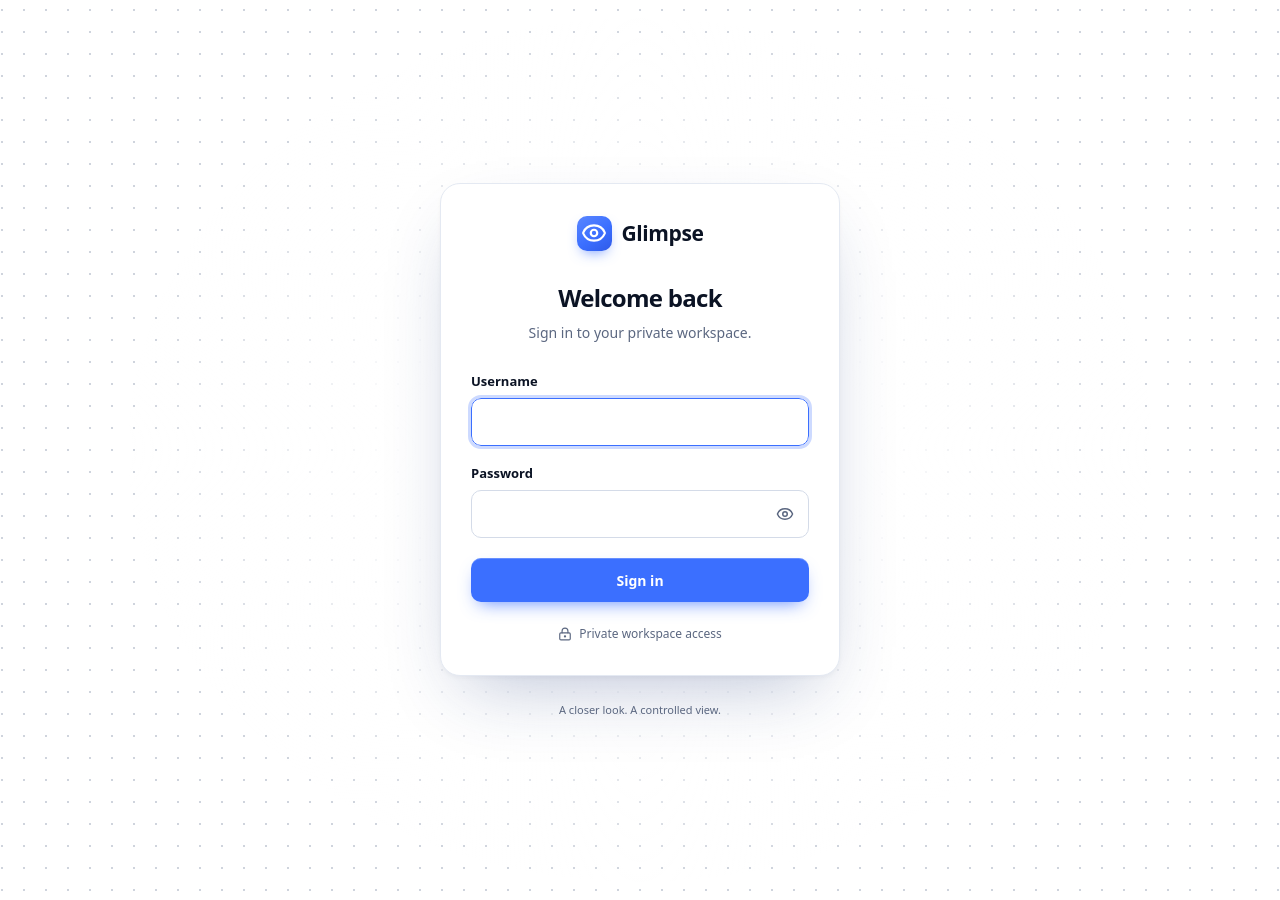
Test: shows server errors and allows another attempt
Type "owner" into the field labelled "Username" at coordinates (640, 422), box [471,398,809,446]
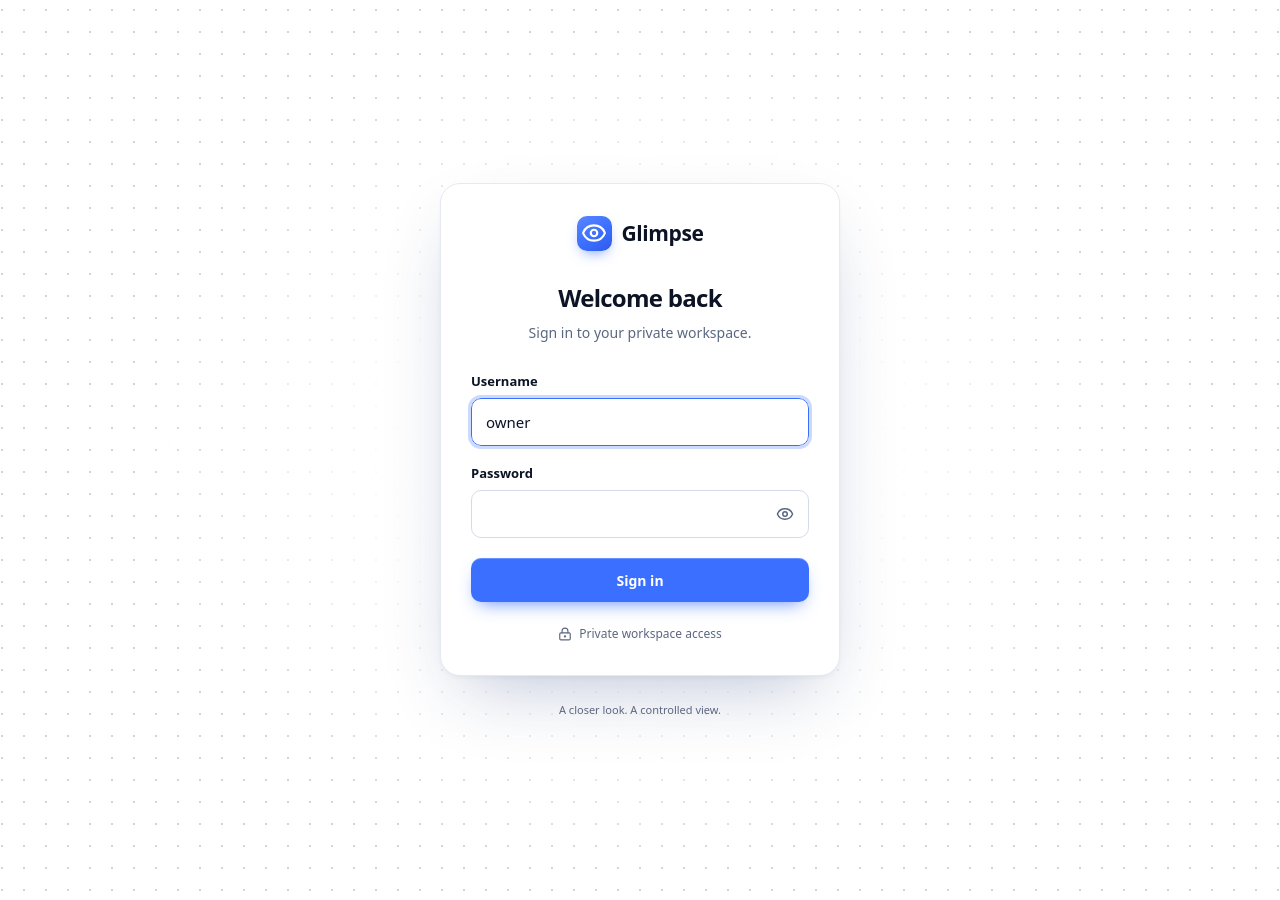
Type "wrong" into the password field labelled "Password" at coordinates (640, 514), box [471,490,809,538]
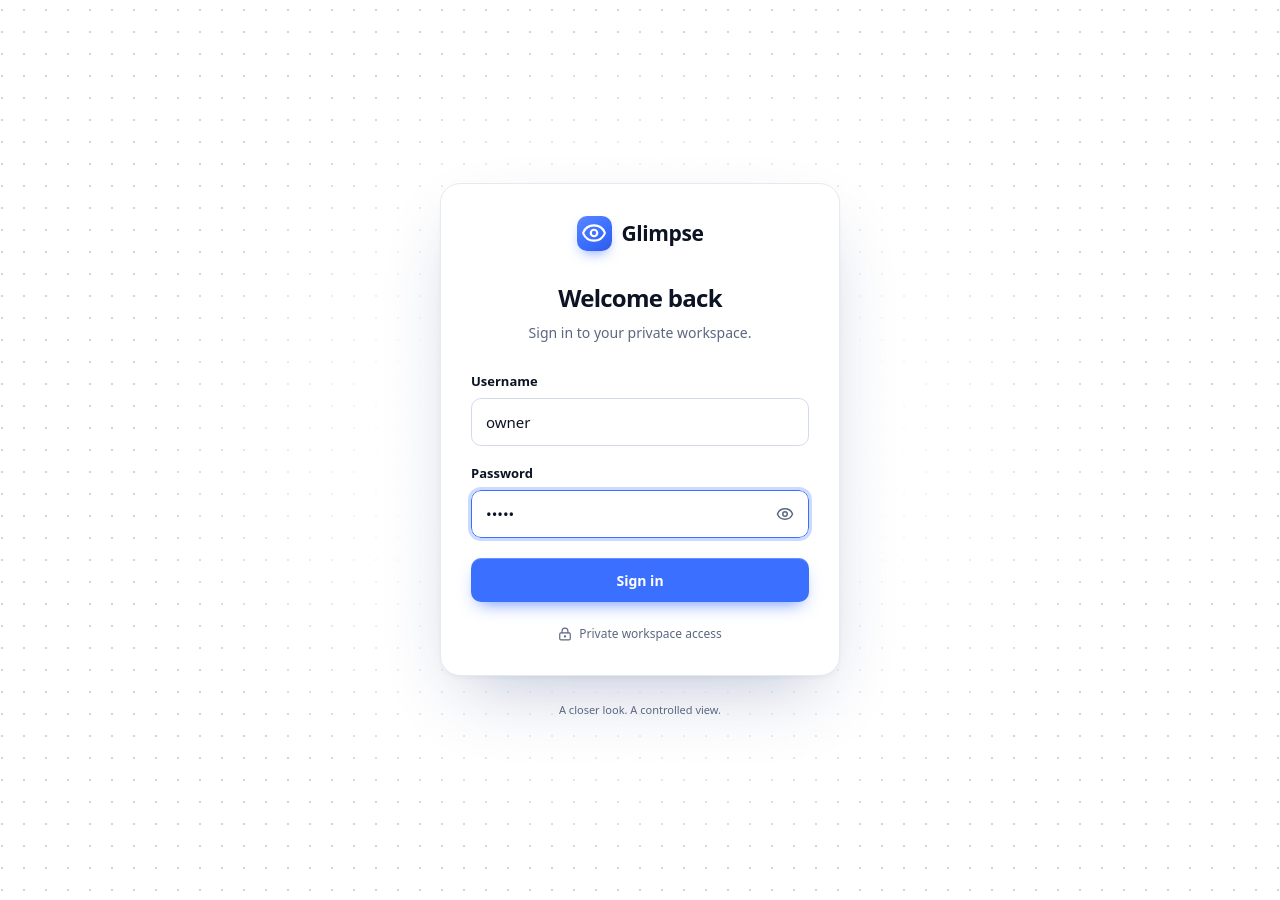
Click the button "Sign in" at coordinates (640, 580), box [471,558,809,602]
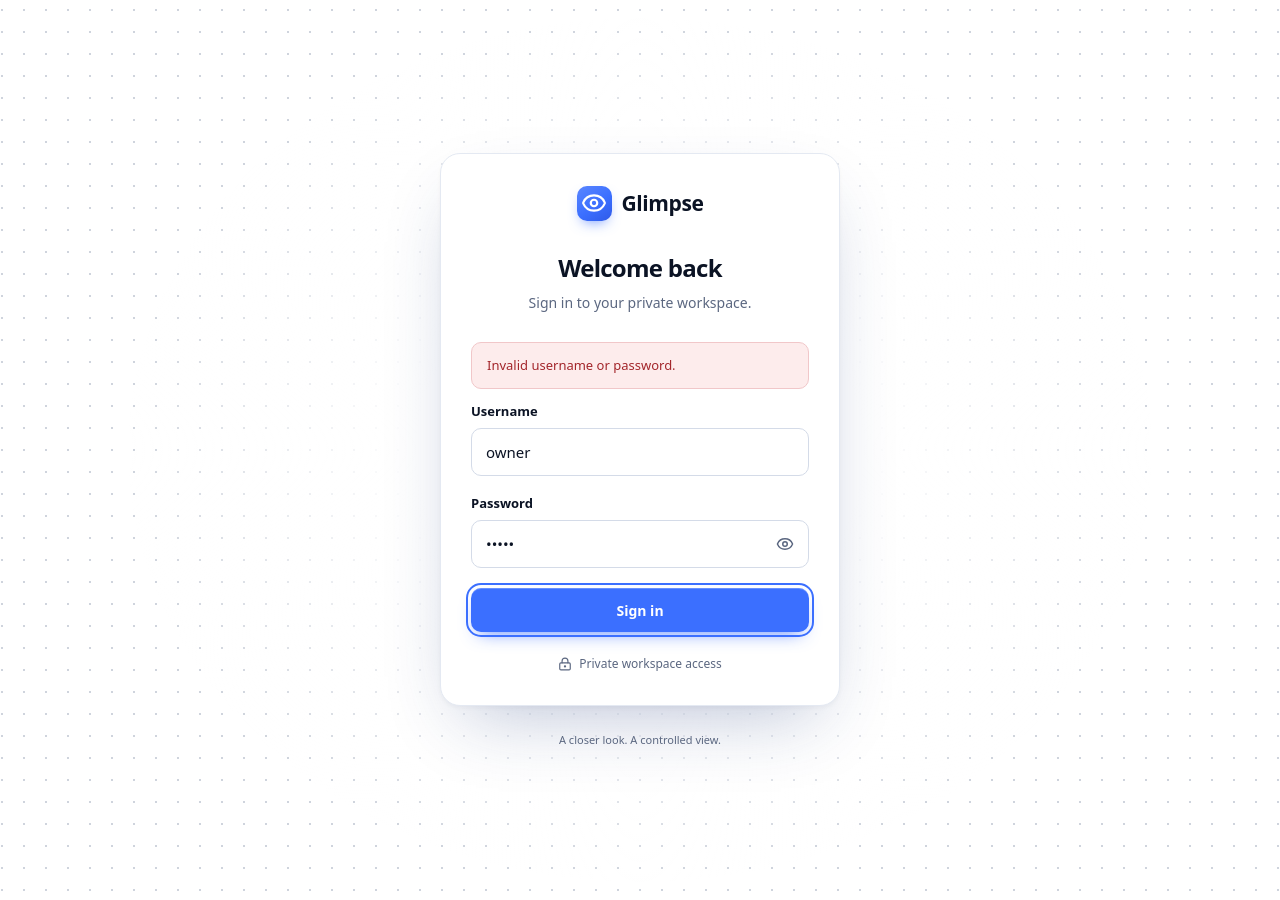
Check: the button "Sign in" is enabled, box [471,588,809,632]
Check: the message reads "Invalid username or password.", box [487,356,676,374]
